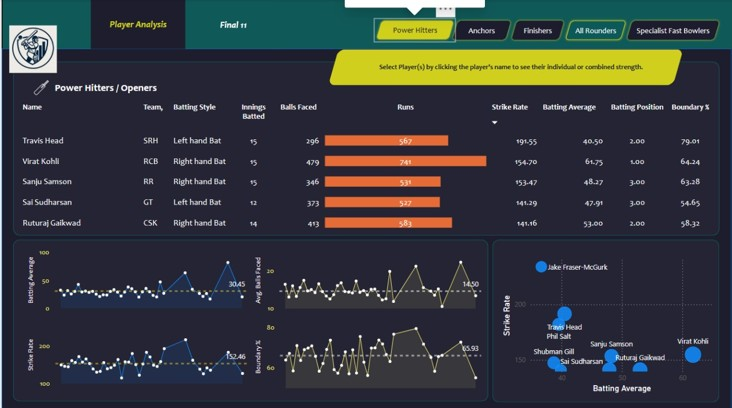

The page's visual inventory and layout, read from the dashboard file:
{"tool":"powerbi","page":{"name":"Power Hitters","canvas":[1280,720],"ordinal":0},"visuals":[{"type":"shape","box":[0,86.5,1278,632.9],"z":0},{"type":"card","fields":{"Values":["Key_Measures.Strike Rate"]},"box":[857.3,90,93,60],"z":0,"group":"g3"},{"type":"group","id":"g1","title":"Group 2","box":[93,138.3,260,31.2],"z":0,"group":"g2"},{"type":"shape","box":[93,138.3,260,31.2],"z":0,"group":"g1"},{"type":"card","fields":{"Values":["Key_Measures.Batting Average"]},"box":[758.3,90,92,60],"z":1000,"group":"g3"},{"type":"image","box":[47.2,136.1,44,36],"z":1000,"group":"g2"},{"type":"shape","box":[860,421.7,396.7,285],"z":1000},{"type":"card","fields":{"Values":["Key_Measures.Boundary %"]},"box":[1053.9,93.3,110,56.7],"z":2000,"group":"g3"},{"type":"shape","box":[20,421.7,831.7,283.3],"z":2000},{"type":"card","fields":{"Values":["Key_Measures.Avergate Balls Faced"]},"box":[956.3,90,101,60],"z":3000,"group":"g3"},{"type":"shape","box":[20,108.3,1236.7,305],"z":3000},{"type":"shape","box":[2,0,1278.7,85.9],"z":4000},{"type":"card","fields":{"Values":["Key_Measures.Boundary %"]},"box":[1036.7,88.3,110,56.7],"z":5000},{"type":"group","id":"g2","title":"Group 1","box":[47.2,136.1,306.1,35.9],"z":6000},{"type":"card","fields":{"Values":["Key_Measures.Avergate Balls Faced"]},"box":[913.3,88.3,100,60],"z":7000},{"type":"tableEx","fields":{"Values":["player_info.name","player_info.team","player_info.battingStyle","Key_Measures.Total Matches","Key_Measures.Total Balls Faced","Key_Measures.Total Runs","Key_Measures.Strike Rate","Key_Measures.Batting Average","Key_Measures.Batting Position","Key_Measures.Boundary %"]},"box":[26.5,166.3,1230.2,255.1],"z":8000},{"type":"areaChart","fields":{"Category":["match_summary.matchDate.Variation.Date Hierarchy.Year","match_summary.matchDate.Variation.Date Hierarchy.Quarter","match_summary.matchDate.Variation.Date Hierarchy.Month","match_summary.matchDate.Variation.Date Hierarchy.Day"],"Y":["Key_Measures.Batting Average"]},"box":[40,428.9,395.6,126.7],"z":9000},{"type":"areaChart","fields":{"Y":["Key_Measures.Strike Rate"],"Category":["match_summary.matchDate.Variation.Date Hierarchy.Year","match_summary.matchDate.Variation.Date Hierarchy.Quarter","match_summary.matchDate.Variation.Date Hierarchy.Month","match_summary.matchDate.Variation.Date Hierarchy.Day"]},"box":[40,560,396.2,126.2],"z":10000},{"type":"areaChart","fields":{"Category":["match_summary.matchDate.Variation.Date Hierarchy.Year","match_summary.matchDate.Variation.Date Hierarchy.Quarter","match_summary.matchDate.Variation.Date Hierarchy.Month","match_summary.matchDate.Variation.Date Hierarchy.Day"],"Y":["Key_Measures.Avergate Balls Faced"]},"box":[438.8,428.8,406.2,126.2],"z":11000},{"type":"areaChart","fields":{"Category":["match_summary.matchDate.Variation.Date Hierarchy.Year","match_summary.matchDate.Variation.Date Hierarchy.Quarter","match_summary.matchDate.Variation.Date Hierarchy.Month","match_summary.matchDate.Variation.Date Hierarchy.Day"],"Y":["Key_Measures.Boundary %"]},"box":[438.8,560,406.2,126.2],"z":12000},{"type":"scatterChart","fields":{"Y":["Key_Measures.Strike Rate"],"X":["Key_Measures.Batting Average"],"Category":["player_info.name"],"Size":["Key_Measures.Total Runs"]},"box":[871.2,442.2,385.5,251.3],"z":13000},{"type":"shape","box":[572,88,622,63],"z":14000},{"type":"group","id":"g3","title":"Combined Perfoamce Metrices","box":[758.3,90,405,60],"z":15000},{"type":"shape","box":[591,103,173,34],"z":16000},{"type":"shape","box":[612,100,560,36],"z":17000},{"type":"actionButton","box":[784.6,32.5,111,42],"z":18000},{"type":"actionButton","box":[651.1,32.9,144.2,41],"z":19000},{"type":"actionButton","box":[888.6,32.5,101,42],"z":20000},{"type":"actionButton","box":[982.6,32.5,115,42],"z":21000},{"type":"actionButton","box":[1089.6,32.5,171,42],"z":22000},{"type":"actionButton","title":"Button Player Ana selected","box":[321.8,1.5,167,85],"z":23000},{"type":"actionButton","title":"Button Player Ana selected","box":[156.3,0,165.4,86.5],"z":24000},{"type":"image","box":[0,39.8,109.8,93.8],"z":25001}]}

Visuals, with their boxes in screenshot pixels (x1, y1, x2, y2), scaled from the page's 1280x720 canvas onto the 732x408 screenshot:
shape: l=0, t=49, r=731, b=407
card - Key_Measures.Strike Rate: l=490, t=51, r=543, b=85
"Group 2" group: l=53, t=78, r=202, b=96
shape: l=53, t=78, r=202, b=96
card - Key_Measures.Batting Average: l=434, t=51, r=486, b=85
image: l=27, t=77, r=52, b=98
shape: l=492, t=239, r=719, b=400
card - Key_Measures.Boundary %: l=603, t=53, r=666, b=85
shape: l=11, t=239, r=487, b=400
card - Key_Measures.Avergate Balls Faced: l=547, t=51, r=605, b=85
shape: l=11, t=61, r=719, b=234
shape: l=1, t=0, r=731, b=49
card - Key_Measures.Boundary %: l=593, t=50, r=656, b=82
"Group 1" group: l=27, t=77, r=202, b=97
card - Key_Measures.Avergate Balls Faced: l=522, t=50, r=579, b=84
tableEx - player_info.name x player_info.team: l=15, t=94, r=719, b=239
areaChart - match_summary.matchDate.Variation.Date Hierarchy.Year x match_summary.matchDate.Variation.Date Hierarchy.Quarter: l=23, t=243, r=249, b=315
areaChart - Key_Measures.Strike Rate x match_summary.matchDate.Variation.Date Hierarchy.Year: l=23, t=317, r=249, b=389
areaChart - match_summary.matchDate.Variation.Date Hierarchy.Year x match_summary.matchDate.Variation.Date Hierarchy.Quarter: l=251, t=243, r=483, b=314
areaChart - match_summary.matchDate.Variation.Date Hierarchy.Year x match_summary.matchDate.Variation.Date Hierarchy.Quarter: l=251, t=317, r=483, b=389
scatterChart - Key_Measures.Strike Rate x Key_Measures.Batting Average: l=498, t=251, r=719, b=393
shape: l=327, t=50, r=683, b=86
"Combined Perfoamce Metrices" group: l=434, t=51, r=665, b=85
shape: l=338, t=58, r=437, b=78
shape: l=350, t=57, r=670, b=77
actionButton: l=449, t=18, r=512, b=42
actionButton: l=372, t=19, r=455, b=42
actionButton: l=508, t=18, r=566, b=42
actionButton: l=562, t=18, r=628, b=42
actionButton: l=623, t=18, r=721, b=42
"Button Player Ana selected" actionButton: l=184, t=1, r=280, b=49
"Button Player Ana selected" actionButton: l=89, t=0, r=184, b=49
image: l=0, t=23, r=63, b=76
